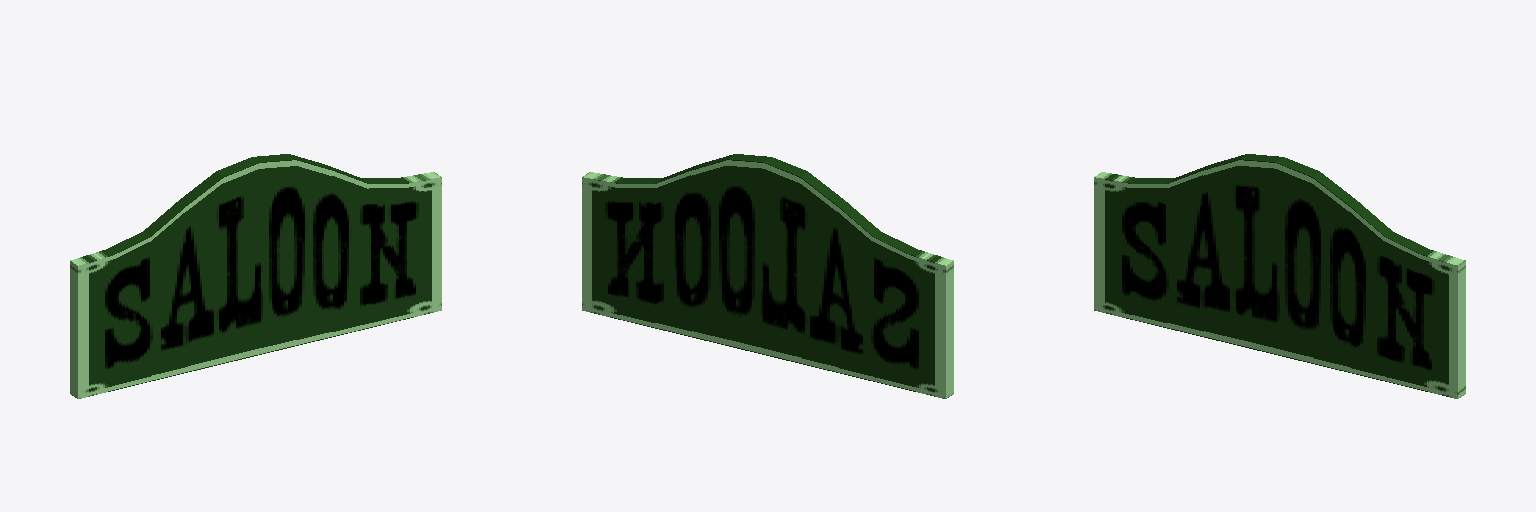
3 views of the same model, side by side, from view 1: azimuth 30°, elevation 25°; view 2: azimuth 150°, elevation 25°; view 3: azimuth 330°, elevation 25° (orthographic).
Visible parts, largest first — view 1: Cube.002_Cube.001; view 2: Cube.002_Cube.001; view 3: Cube.002_Cube.001.
Boxes of the visible parts, x1,y1,x2,y2 form: Cube.002_Cube.001: [70, 154, 441, 398]; Cube.002_Cube.001: [582, 154, 953, 398]; Cube.002_Cube.001: [1094, 154, 1465, 398].
Size of the model in its own units: 2.8 by 1.42 by 0.1.
1 materials, 1 textured.